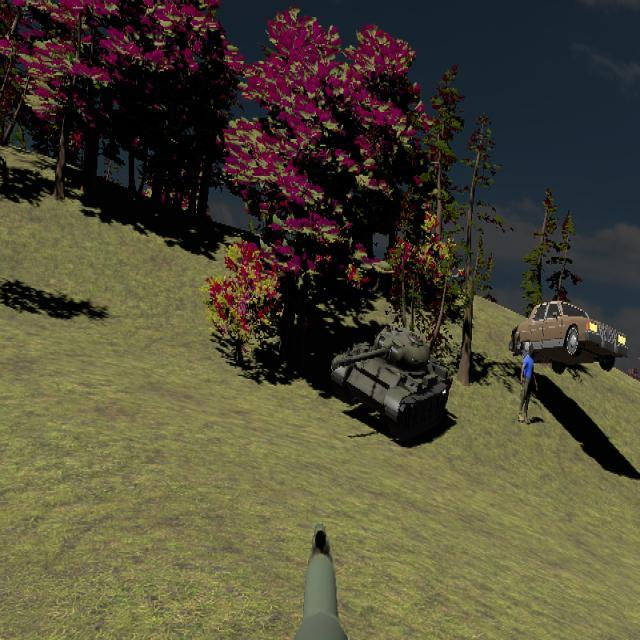Human: (518, 343, 539, 424)
Tank: (329, 325, 453, 439)
car: (509, 300, 628, 372)
